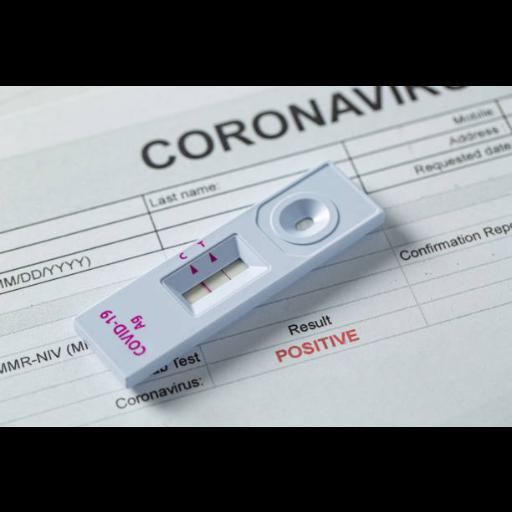Pos: (74, 160, 385, 376)
